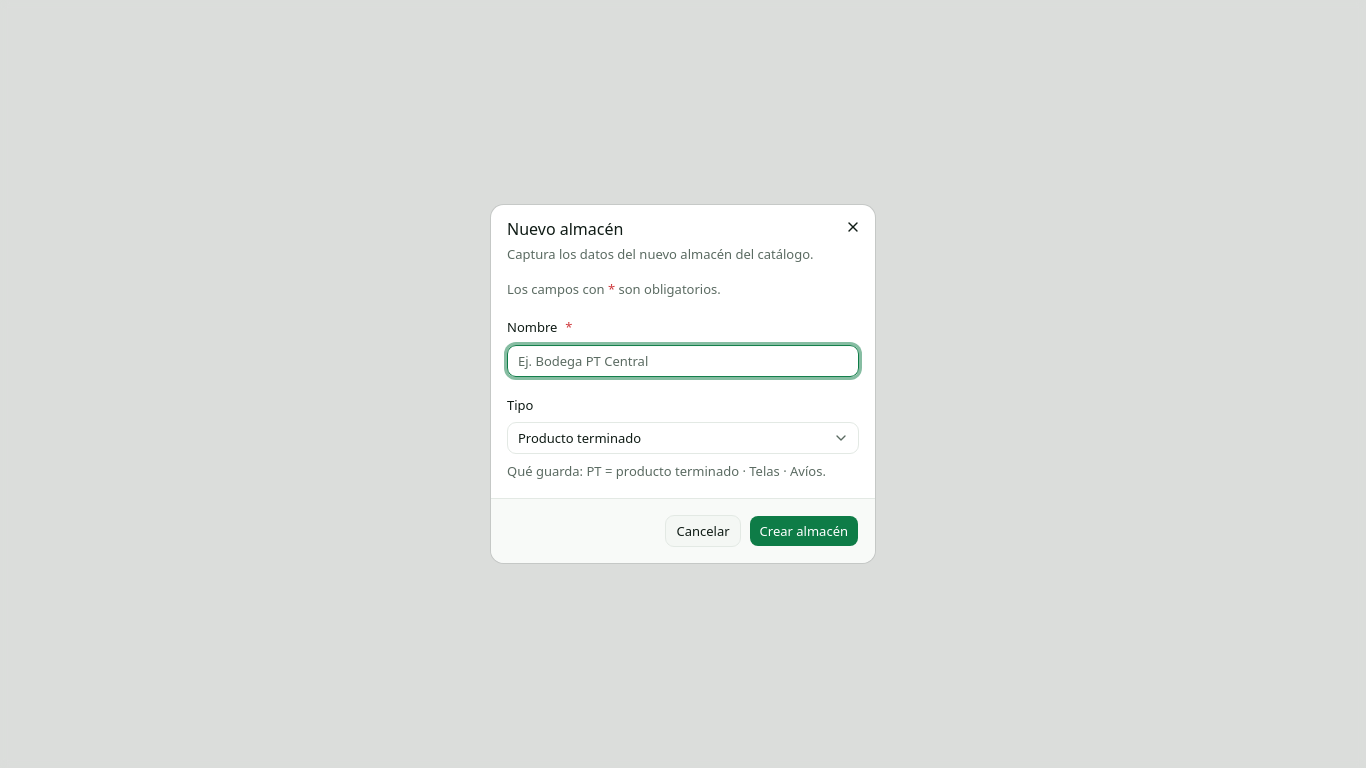
Test case: DialogoAlmacen · cortador (§Post-F9.13) › el campo solo existe en almacenes de TELA y ofrece únicamente cortadores
Select "Telas" in the dropdown labelled "Tipo" at {"x": 683, "y": 438}, box [507,422,859,454]
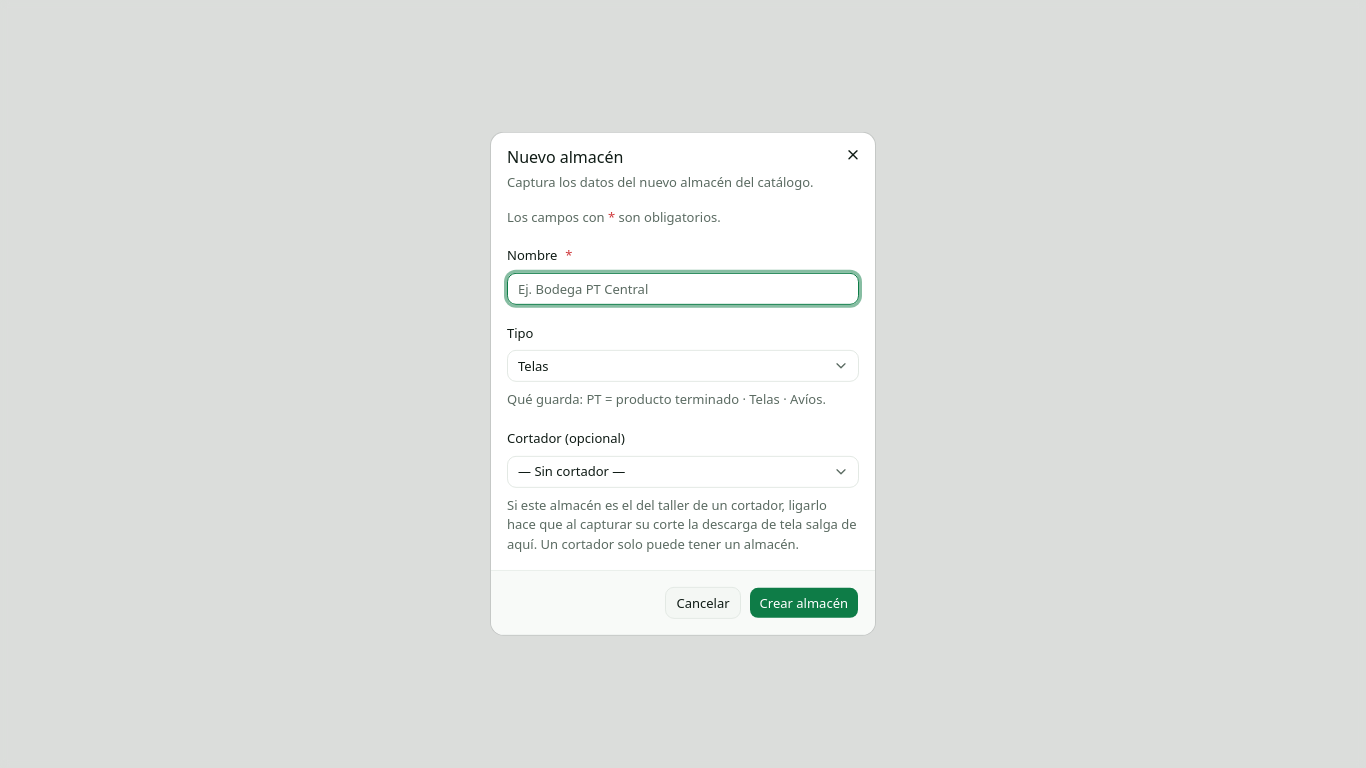
Now the dropdown with test id "almacen-cortador" is shown, box [507,456,859,488]
